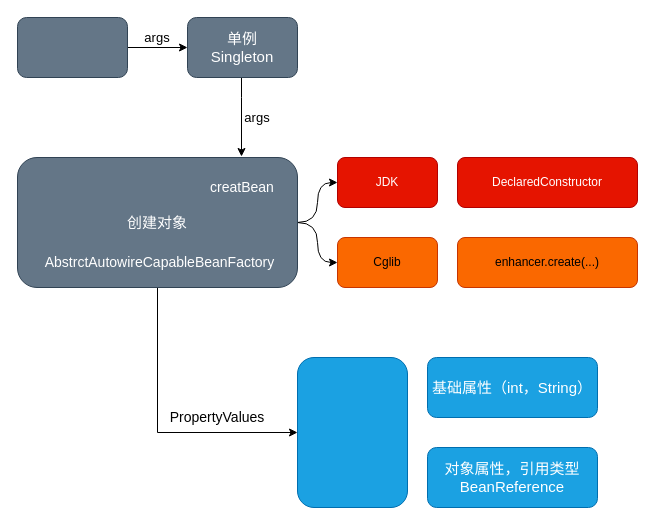
Image size: 655x525. Some labels were removed from this diagram. Each missing label, with the box of its shape:
属性 填充: (296, 356, 408, 508)
获取 Get: (16, 16, 128, 78)
